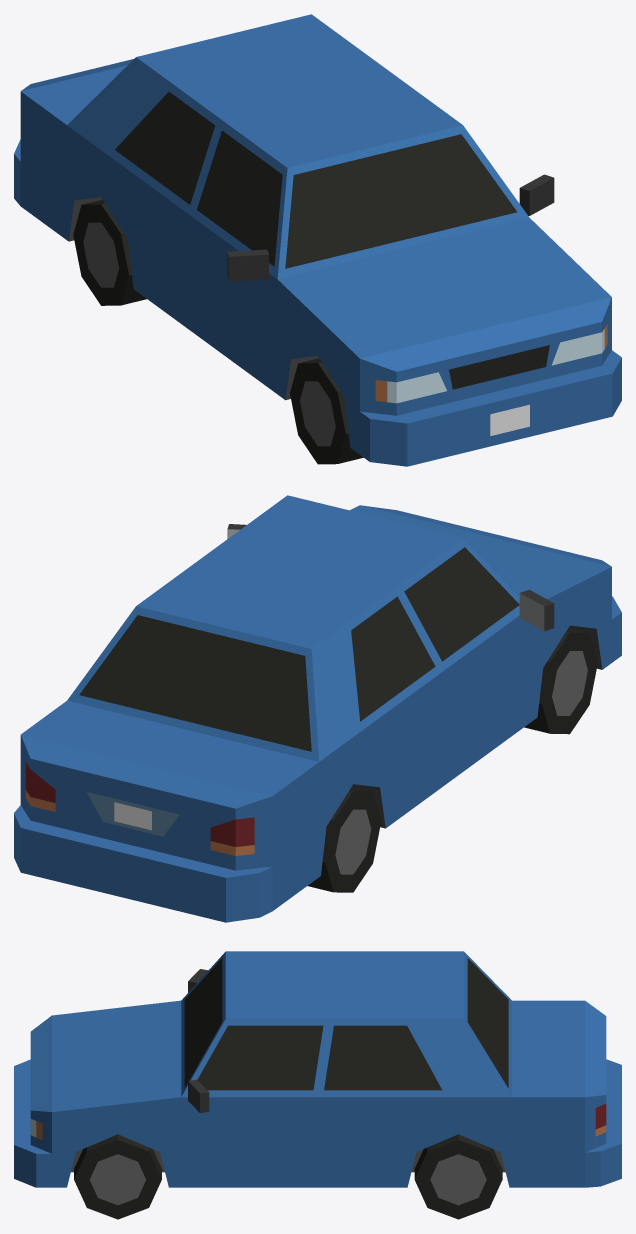
The model's file is Veh_Sedan_01_Blue.obj.
3 renders of one model, top to bottom at view 1: azimuth 30°, elevation 25°; view 2: azimuth 150°, elevation 25°; view 3: azimuth 270°, elevation 25°, orthographic. The views are drawn at different scales.
Size of the model in its own units: 1.22 by 0.852 by 2.52.
